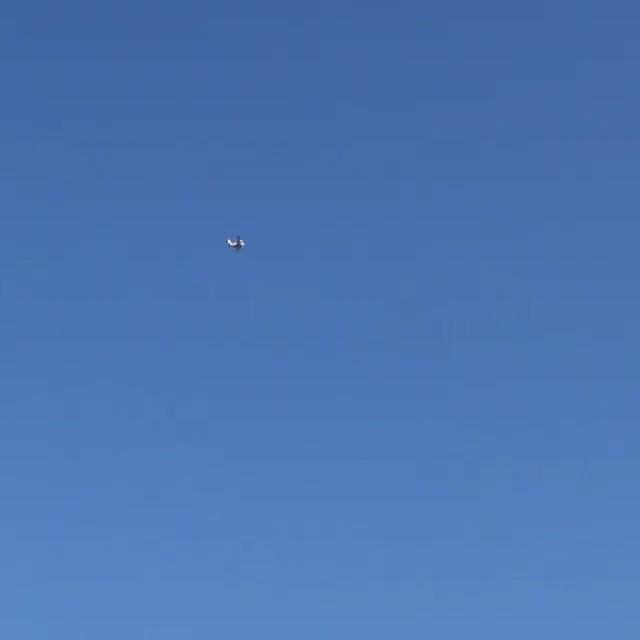AirPlane: (218, 225, 255, 263)
